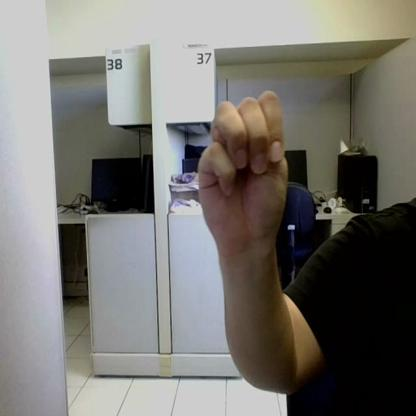M: (199, 91, 288, 248)
